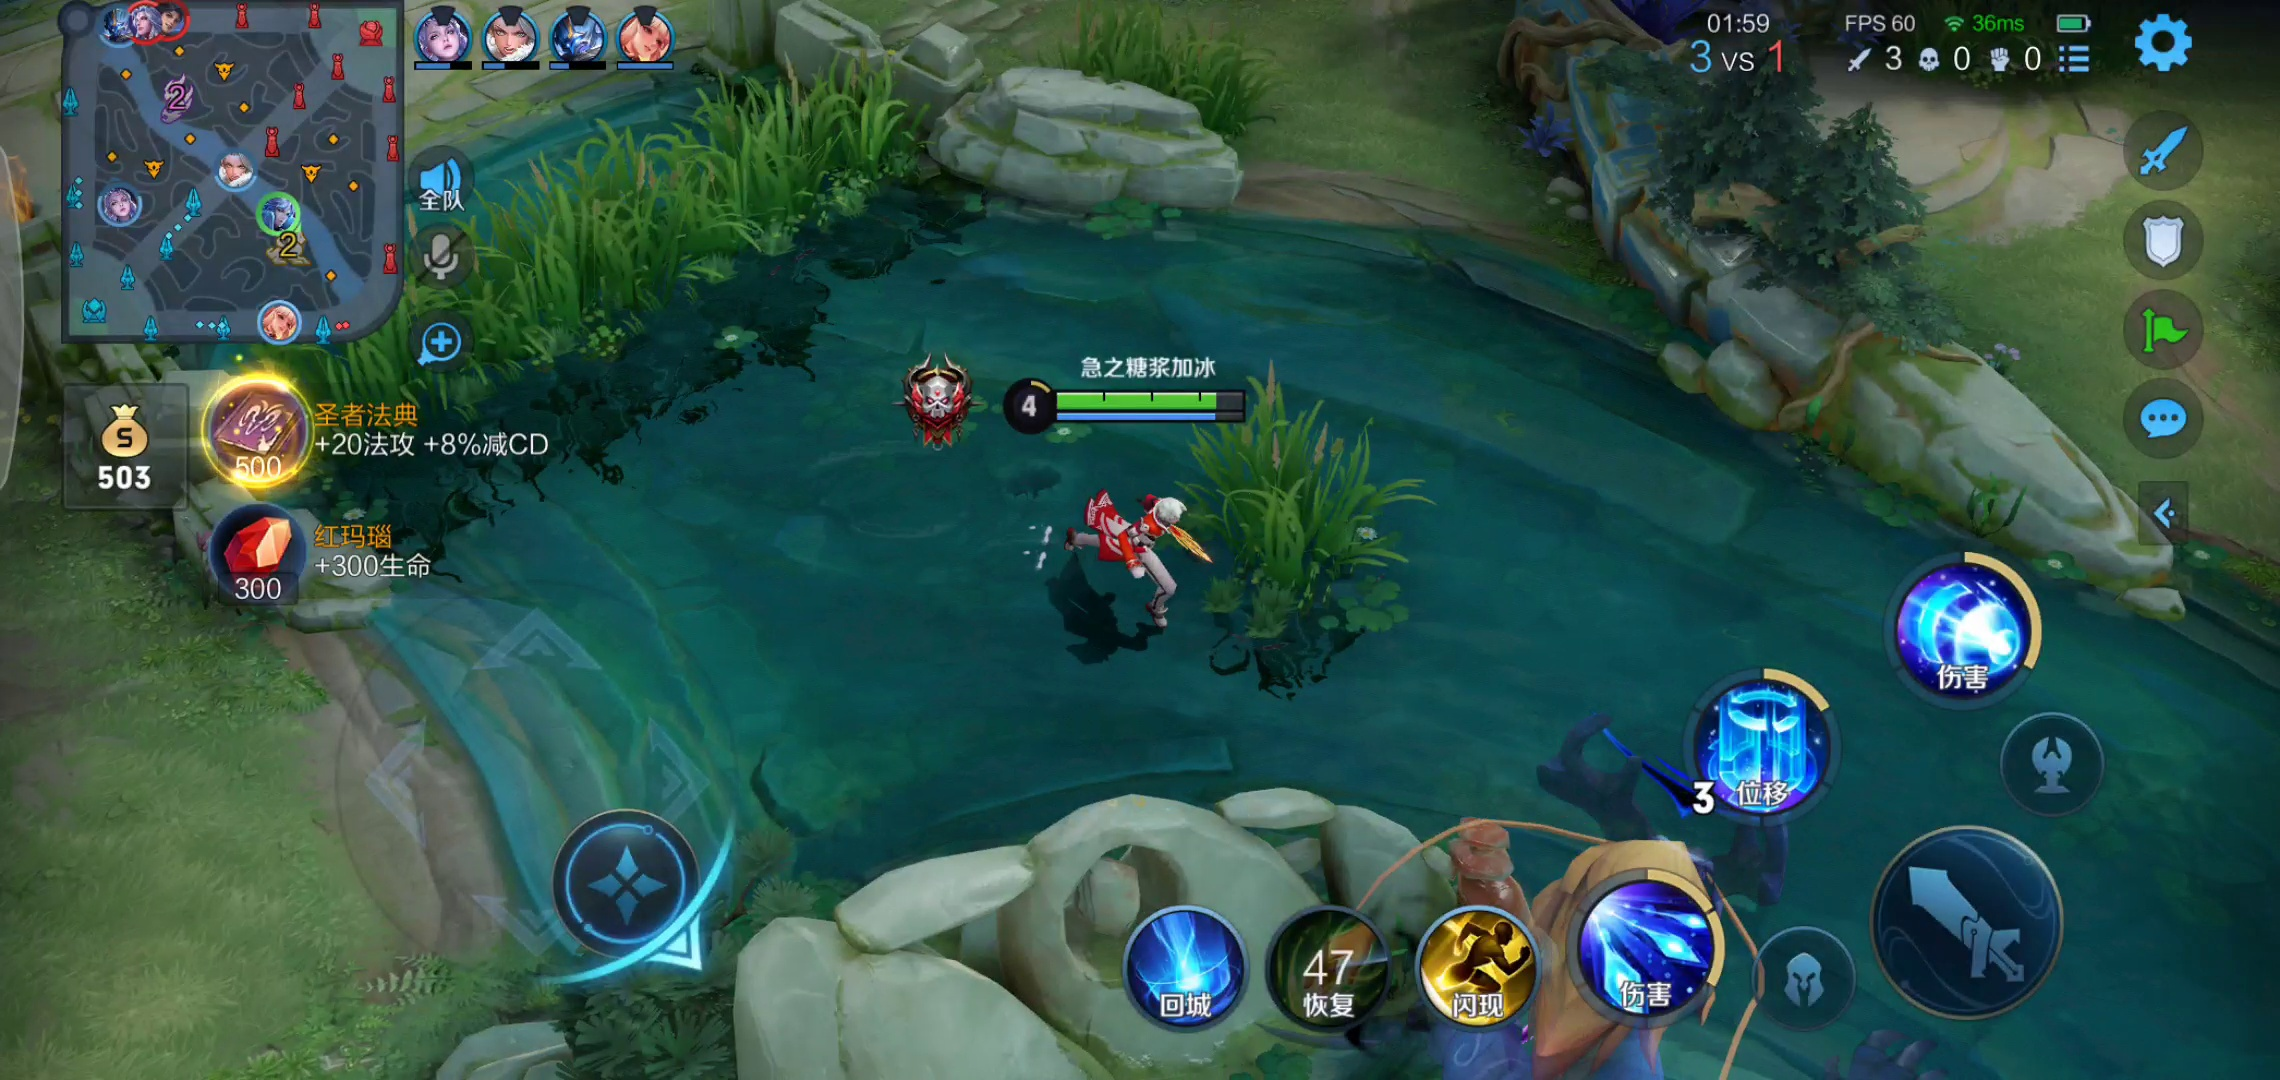dragon: (1284, 772, 1823, 1079)
grass: (217, 63, 923, 504), (1204, 374, 1413, 650), (1054, 12, 1275, 150)
hero: (1041, 477, 1198, 641)
